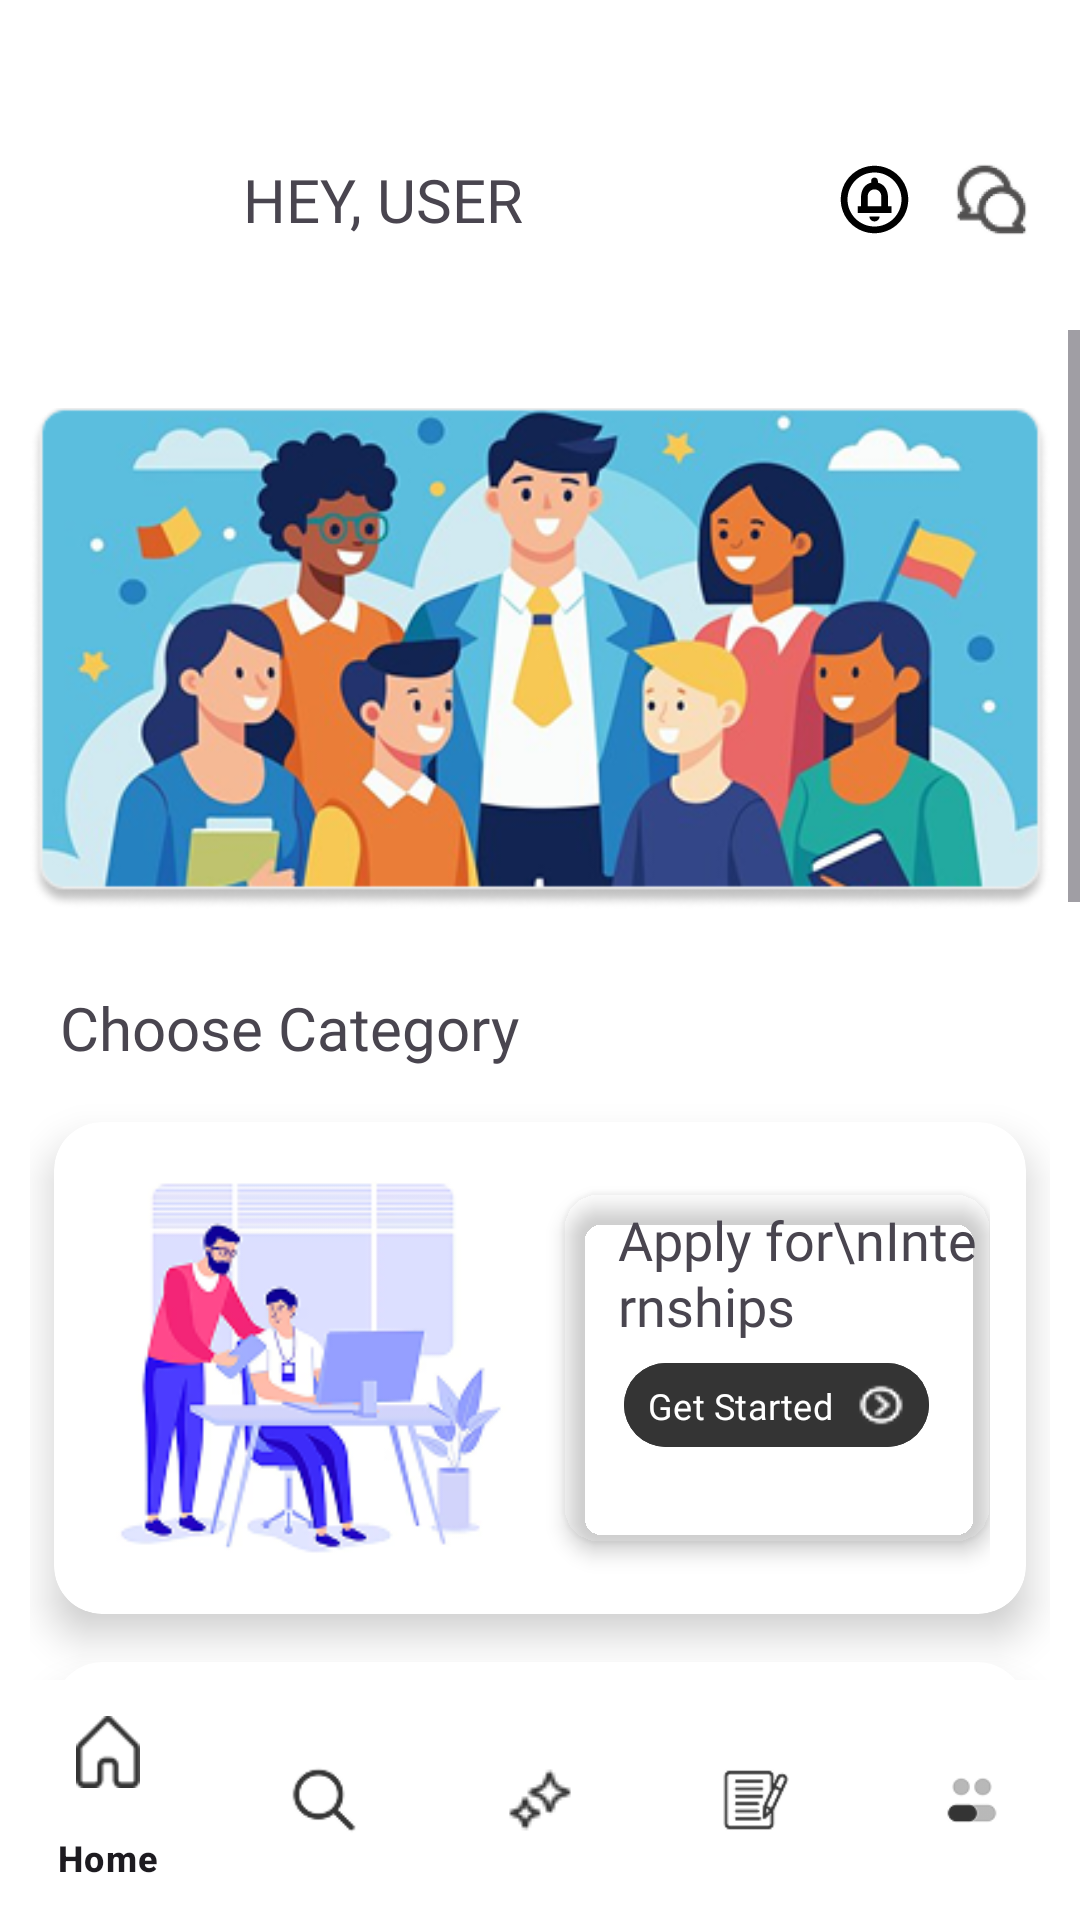

Named icons in this screenshot (1080*1920) and their bounding boxes, (x1, y1, x2, y2):
circle notifications: (840, 165, 909, 234)
